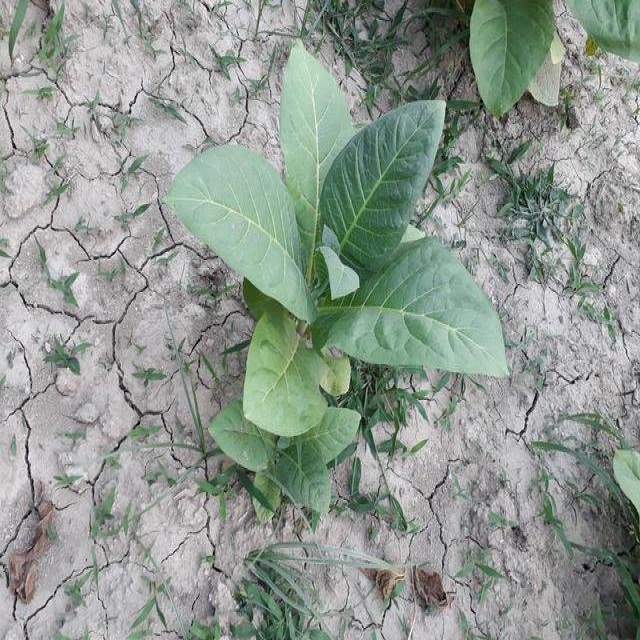crop: (180, 59, 511, 503), (474, 0, 640, 97), (606, 427, 640, 512)
